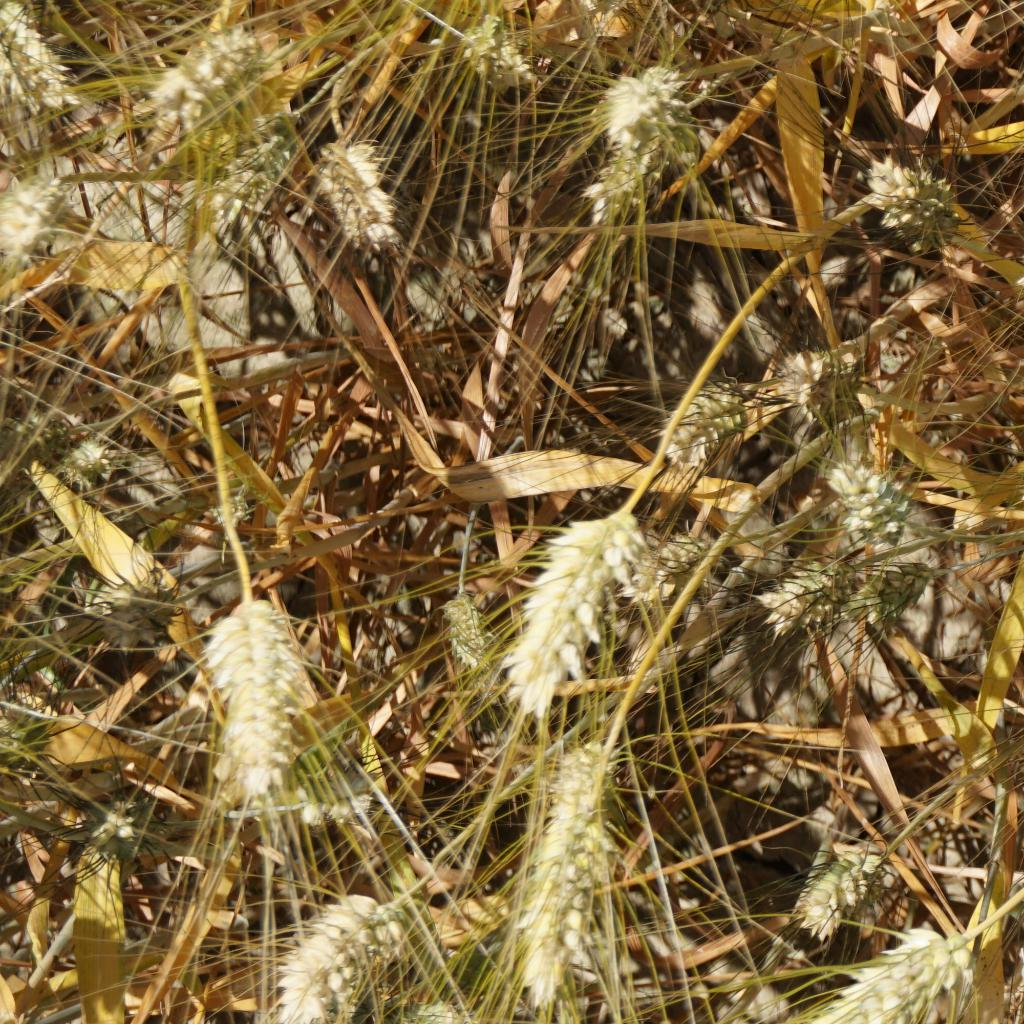0-0: (188, 579, 340, 799), (528, 736, 614, 993), (516, 513, 622, 713), (286, 894, 420, 1024), (59, 775, 177, 877), (147, 28, 268, 126), (832, 929, 954, 1024), (822, 453, 936, 545), (649, 382, 766, 468), (856, 152, 963, 240), (775, 332, 870, 429), (0, 14, 78, 132), (81, 571, 188, 653), (210, 108, 294, 212), (316, 132, 398, 238), (454, 12, 544, 105), (0, 168, 72, 278), (596, 61, 700, 134), (796, 835, 878, 924), (591, 137, 673, 222), (55, 414, 129, 501), (777, 550, 852, 633), (0, 688, 64, 783), (861, 548, 936, 629), (627, 518, 700, 588), (448, 590, 491, 692), (200, 493, 260, 535), (563, 0, 617, 25)
